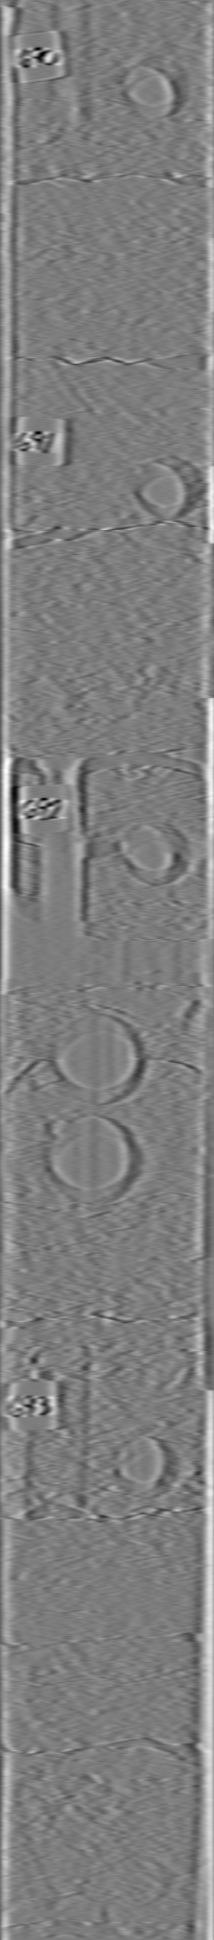hplug: (108, 810, 192, 890), (104, 1427, 186, 1504), (126, 449, 204, 518), (116, 53, 190, 122)
scal: (45, 1007, 148, 1109), (42, 1114, 143, 1208)
vplug: (19, 1333, 92, 1527), (24, 741, 92, 933), (36, 1, 100, 151)
